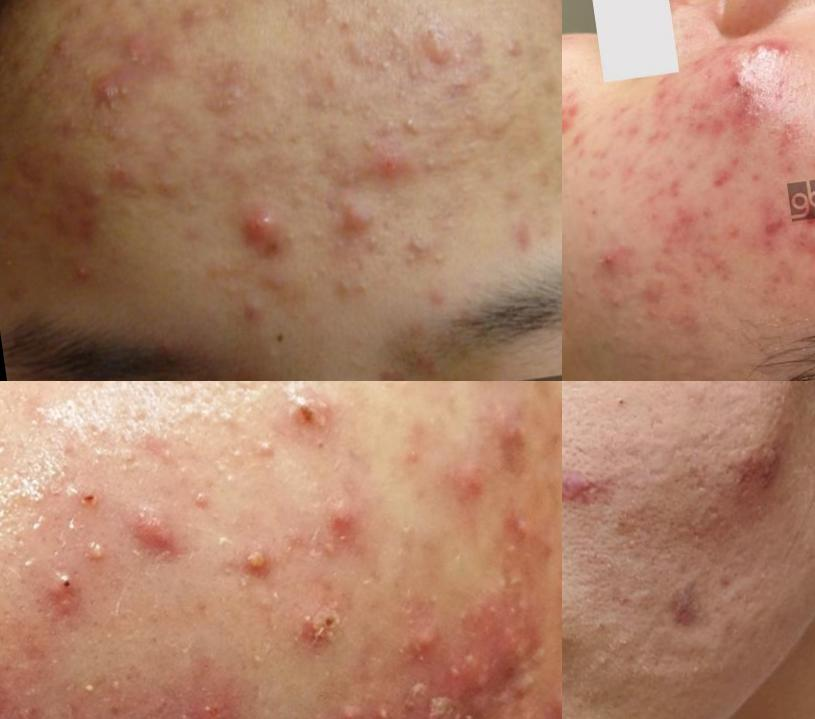acne_scars: (716, 439, 801, 512), (563, 465, 639, 528), (663, 595, 735, 642), (692, 164, 739, 203), (563, 98, 589, 148), (756, 215, 792, 242)
papular: (432, 424, 516, 550), (150, 630, 268, 719), (304, 484, 387, 572), (689, 235, 752, 292), (649, 197, 705, 258), (369, 133, 426, 191), (765, 115, 815, 170), (414, 20, 462, 77), (100, 157, 151, 206), (336, 188, 382, 241), (627, 269, 664, 310), (715, 71, 755, 102), (601, 286, 628, 313)
purulent: (221, 522, 296, 606), (227, 194, 301, 265), (33, 562, 102, 635), (70, 523, 130, 589), (1, 658, 27, 719), (591, 243, 628, 278)
sebo-crystan-conglo: (346, 609, 563, 719), (124, 483, 208, 595), (279, 586, 359, 675), (112, 35, 177, 82), (82, 73, 139, 115), (161, 700, 260, 719), (746, 33, 795, 70), (788, 217, 815, 273)
whitehead: (234, 423, 299, 473), (134, 426, 192, 478), (62, 263, 119, 315), (172, 467, 224, 521), (201, 66, 254, 118), (46, 25, 100, 76), (395, 226, 450, 276), (68, 669, 119, 719), (326, 268, 382, 308), (495, 30, 541, 74), (174, 1, 229, 36), (218, 111, 258, 159), (574, 646, 623, 684), (266, 333, 300, 371), (317, 67, 355, 99), (218, 280, 257, 311), (369, 44, 404, 78), (394, 109, 428, 142), (563, 275, 598, 307), (183, 184, 218, 215), (295, 183, 320, 219), (622, 310, 654, 337), (308, 219, 334, 251), (422, 151, 449, 181), (84, 184, 111, 213), (156, 170, 187, 194), (131, 708, 165, 719)
